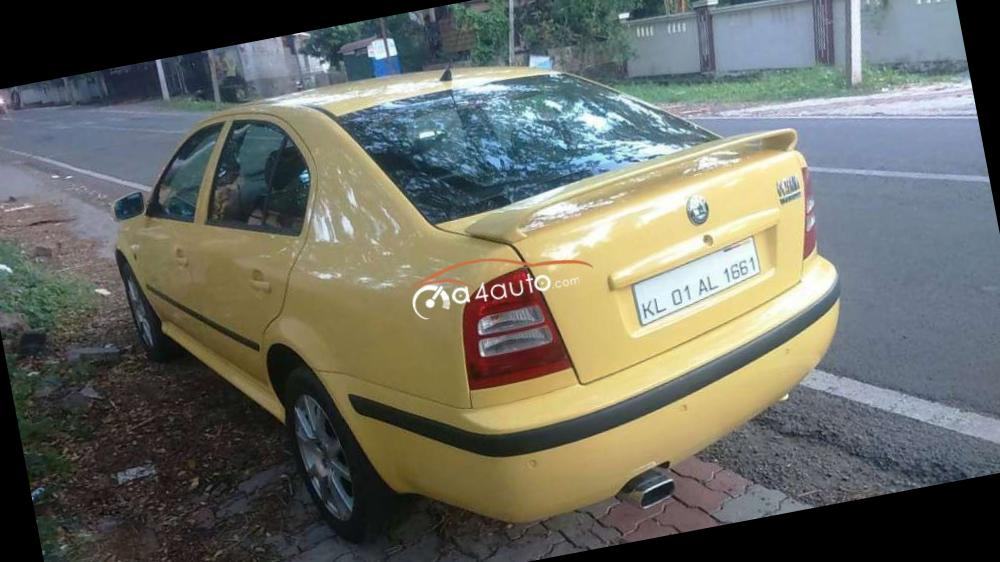plate: (605, 235, 790, 333)
